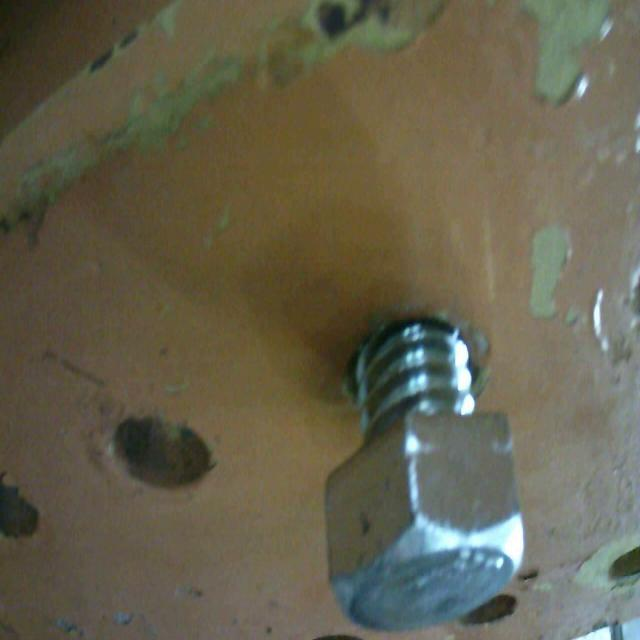Loose bolt: (323, 309, 527, 634)
Missing bolt: (112, 410, 216, 495), (1, 472, 41, 542), (463, 594, 519, 637), (609, 541, 640, 583)
Regular bolt: (322, 310, 538, 605)
